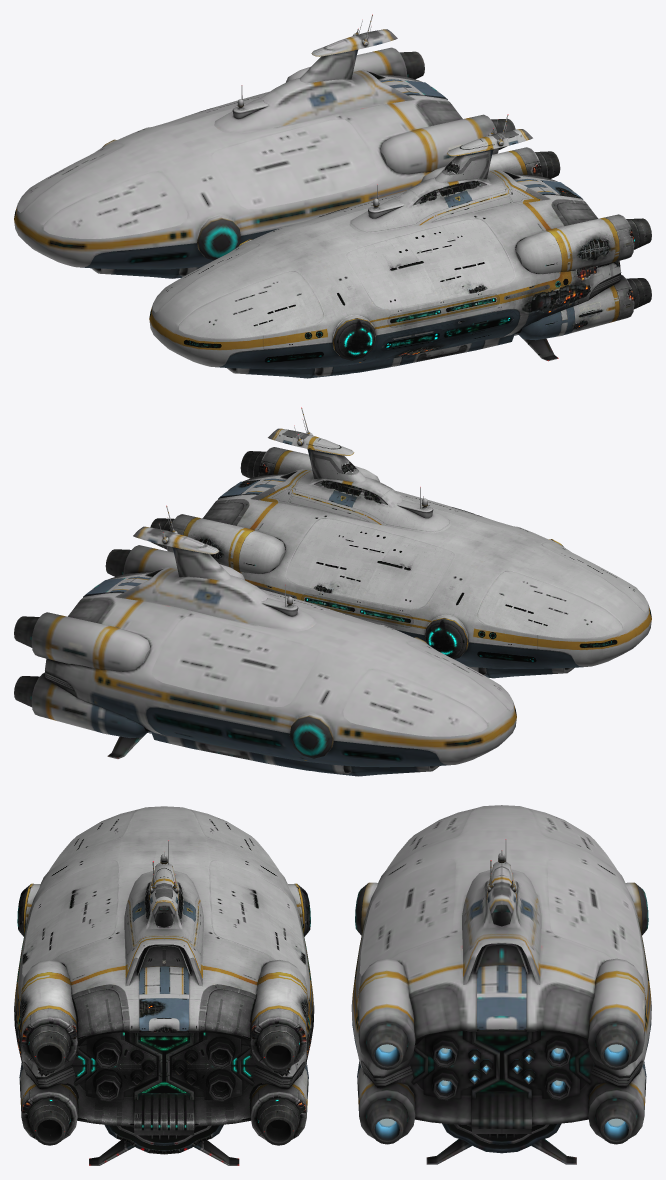
Rendered from 2_starships_fixed_and_broken.glb.
The picture shows the model from 3 angles, top to bottom: view 1: azimuth 30°, elevation 25°; view 2: azimuth 150°, elevation 25°; view 3: azimuth 270°, elevation 25°; orthographic projection. The views are drawn at different scales.
Visible parts, largest first — view 1: Sub2, Sub; view 2: Sub, Sub2; view 3: Sub, Sub2.
Boxes of the visible parts, x1,y1,x2,y2 form: Sub2: (149, 114, 651, 378); Sub: (14, 14, 515, 278); Sub: (14, 505, 516, 776); Sub2: (150, 407, 651, 678); Sub: (351, 805, 651, 1164); Sub2: (14, 806, 314, 1165).
Size of the model in its own units: 2.41 by 1.22 by 2.43.
Materials: 2 (2 with a texture image).
